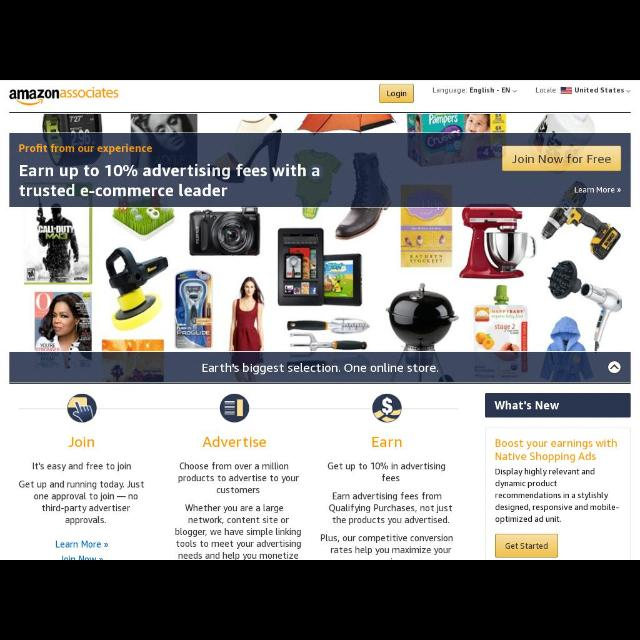backgroundimage: (9, 113, 630, 383)
button: (607, 360, 621, 374)
icon: (624, 84, 632, 96), (511, 85, 519, 96)
image: (8, 86, 120, 108), (368, 392, 404, 423), (218, 392, 252, 424), (65, 392, 98, 424), (559, 84, 573, 94)
spinner: (558, 83, 632, 95), (466, 84, 520, 98)
text: (18, 164, 322, 198), (494, 467, 622, 523), (174, 503, 300, 559), (17, 481, 147, 527), (326, 489, 454, 527), (176, 462, 300, 494), (494, 437, 620, 463), (320, 532, 454, 556), (202, 363, 440, 375), (328, 462, 447, 482), (18, 142, 154, 156), (512, 154, 614, 166), (31, 461, 133, 473), (534, 85, 632, 95), (431, 85, 519, 96), (493, 399, 561, 413), (201, 436, 267, 448), (54, 540, 110, 550), (371, 435, 403, 451), (574, 185, 622, 195), (68, 436, 96, 450), (504, 542, 550, 550), (59, 554, 107, 560), (387, 90, 408, 98)
textbutton: (502, 146, 622, 170), (496, 534, 558, 558), (381, 85, 414, 103)
toolbar: (1, 80, 639, 112)
